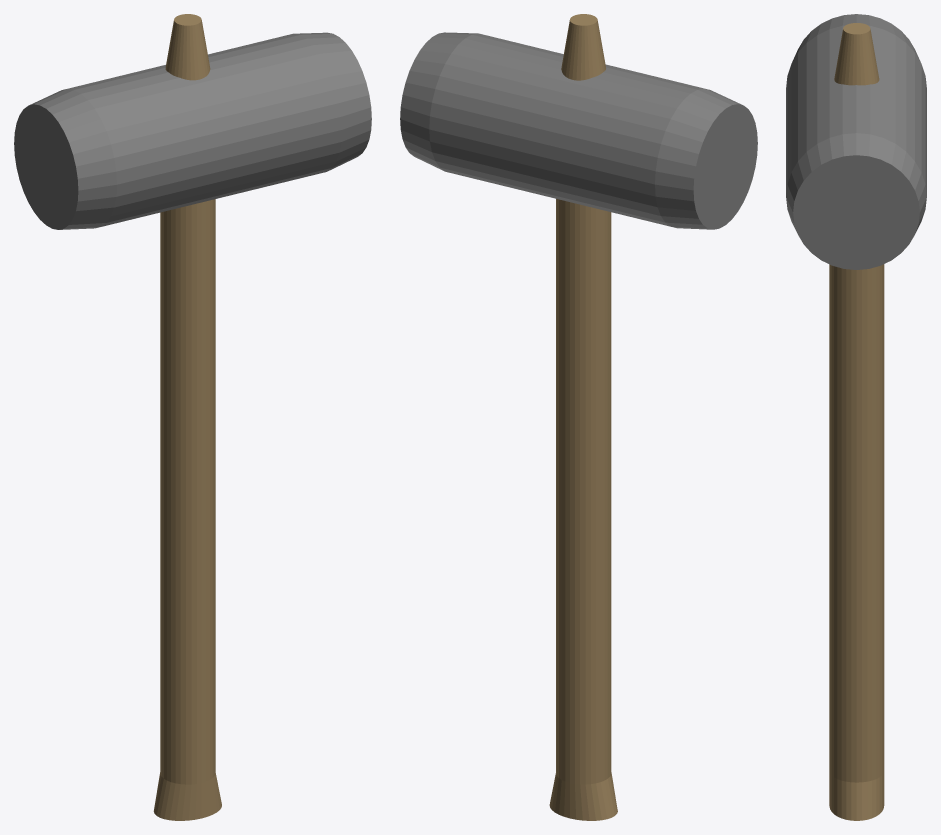
Rendered from Hammer.fbx.
3 renders of one model, left to right at view 1: azimuth 30°, elevation 25°; view 2: azimuth 150°, elevation 25°; view 3: azimuth 270°, elevation 25°, orthographic.
Parts seen in each view (by area): view 1: Cylinder.001, Cylinder; view 2: Cylinder.001, Cylinder; view 3: Cylinder, Cylinder.001.
Part boxes in pixels (<box>): Cylinder.001: <box>14,32,371,229</box>; Cylinder: <box>153,14,221,820</box>; Cylinder.001: <box>400,32,757,229</box>; Cylinder: <box>549,14,617,820</box>; Cylinder: <box>829,23,884,820</box>; Cylinder.001: <box>786,14,926,269</box>.
Size of the model in its own units: 12.56 by 32.24 by 5.3.
